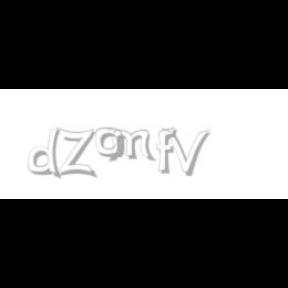V: (162, 128, 210, 176)
Z: (58, 128, 94, 178)
d: (29, 128, 66, 180)
f: (156, 128, 180, 174)
m: (105, 128, 157, 162)
o: (96, 128, 124, 158)
